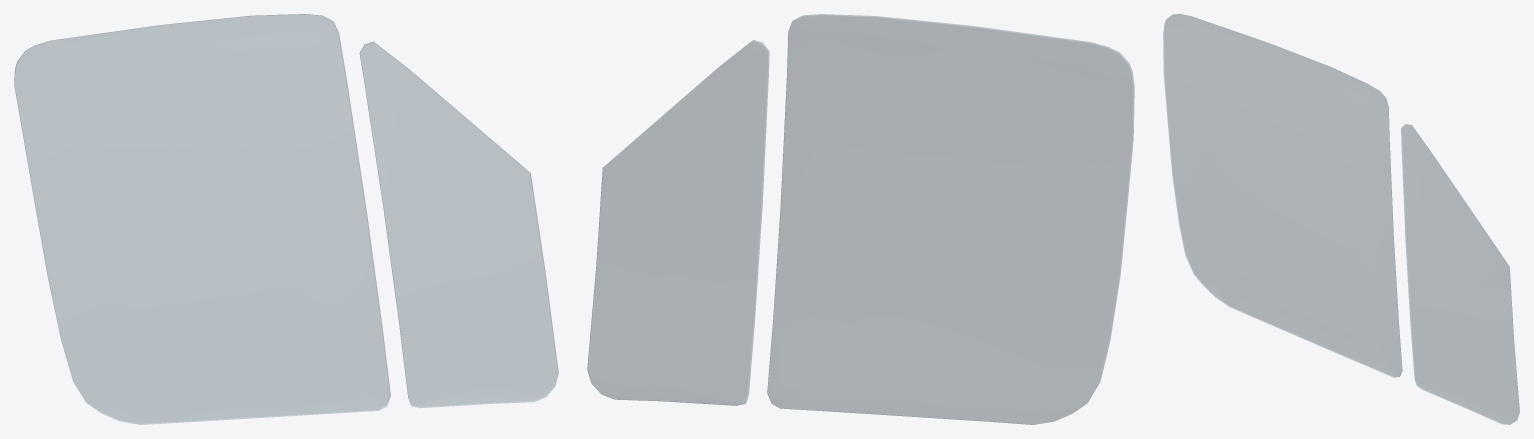
3 views of the same model, side by side, from view 1: azimuth 30°, elevation 25°; view 2: azimuth 150°, elevation 25°; view 3: azimuth 330°, elevation 25° (orthographic). The views are drawn at different scales.
Parts seen in each view (by area): view 1: SM_MercedesSprinter_Door_FR_Glass_Ext2; view 2: SM_MercedesSprinter_Door_FR_Glass_Ext2; view 3: SM_MercedesSprinter_Door_FR_Glass_Ext2.
Boxes of the visible parts, box(x1,y1,x2,y2) form: SM_MercedesSprinter_Door_FR_Glass_Ext2: box(14, 14, 558, 424); SM_MercedesSprinter_Door_FR_Glass_Ext2: box(587, 14, 1134, 424); SM_MercedesSprinter_Door_FR_Glass_Ext2: box(1163, 14, 1519, 424).
Bounding box in the file's own units: 0.8766 × 0.7315 × 0.054.
